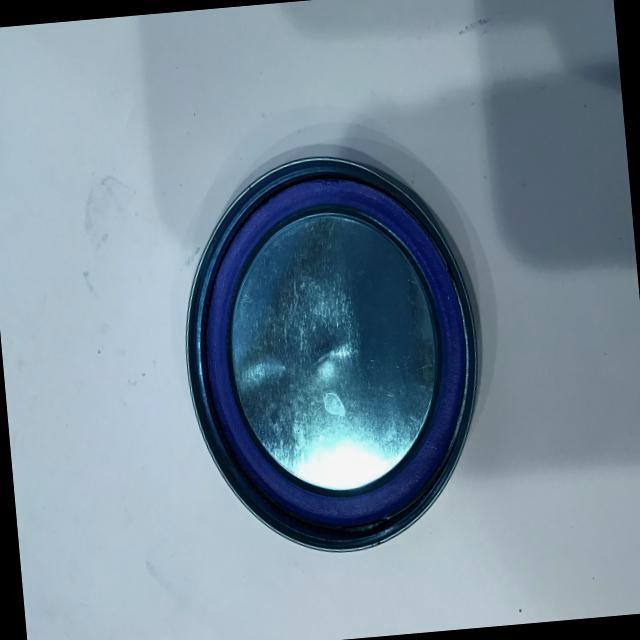metal: (145, 120, 504, 581)
